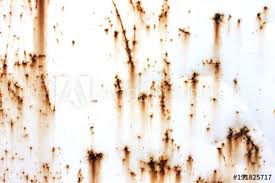rust: (1, 2, 49, 114), (123, 144, 182, 181), (218, 128, 268, 166), (113, 6, 137, 71), (145, 80, 176, 120), (205, 11, 228, 50), (84, 149, 105, 179), (112, 77, 127, 113)
